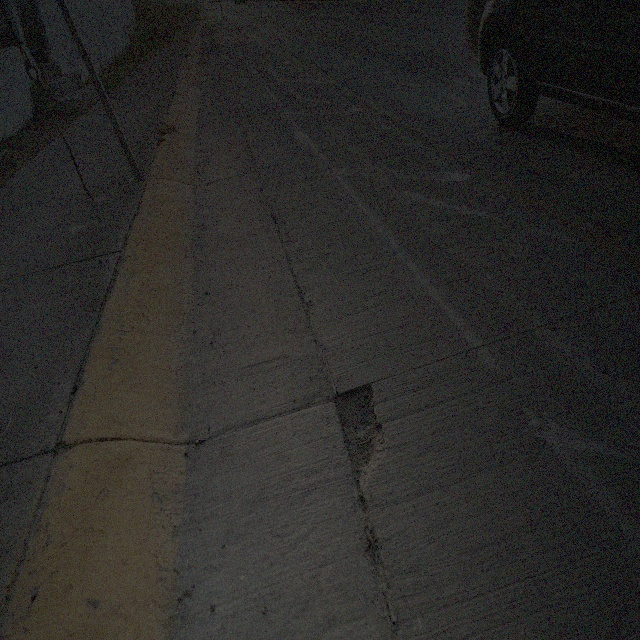pothole: (330, 379, 388, 495)
